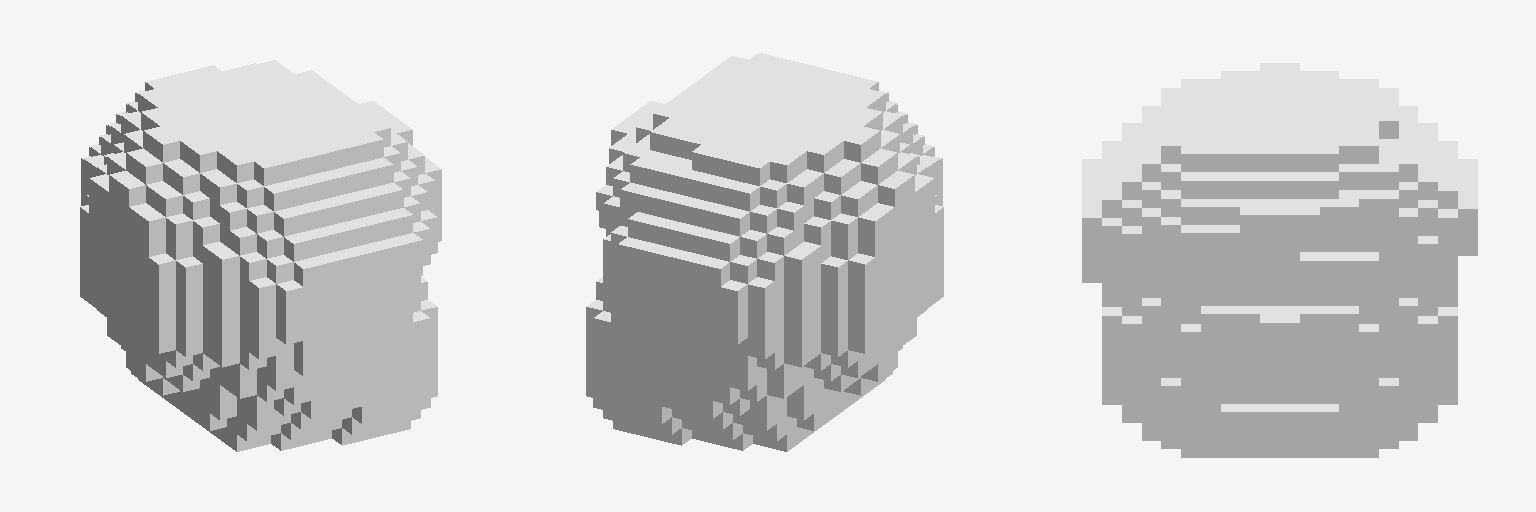
File: head_male_01.obj
The picture shows the model from 3 angles: view 1: azimuth 30°, elevation 25°; view 2: azimuth 150°, elevation 25°; view 3: azimuth 270°, elevation 25°; orthographic projection.
Visible parts, largest first — view 1: head_male_01; view 2: head_male_01; view 3: head_male_01.
Part boxes in pixels (x1,y1,x2,y2): head_male_01: (80, 60, 441, 451); head_male_01: (586, 53, 943, 451); head_male_01: (1082, 63, 1477, 457).
Bounding box in the file's own units: 16 × 16 × 20.